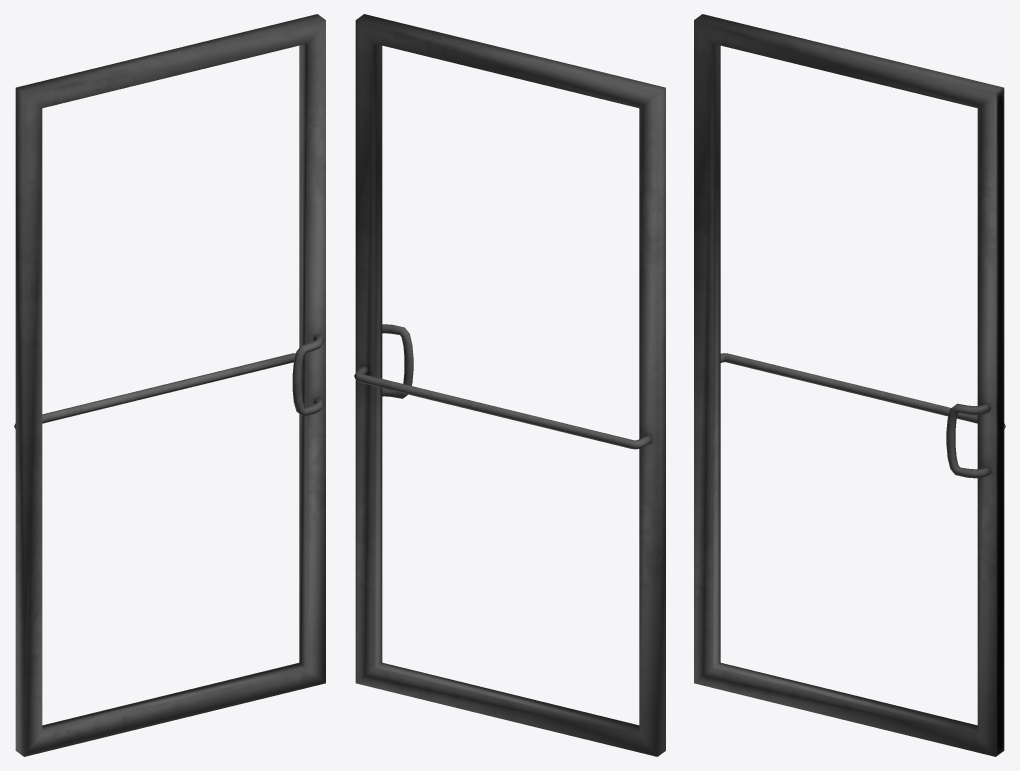
The model's file is Door_A.glb.
The picture shows the model from 3 angles, left to right: view 1: azimuth 30°, elevation 25°; view 2: azimuth 150°, elevation 25°; view 3: azimuth 330°, elevation 25°; orthographic projection.
Parts seen in each view (by area): view 1: Door_A.001; view 2: Door_A.001; view 3: Door_A.001.
Boxes of the visible parts, x1=… form: Door_A.001: x1=14, y1=14, x2=325, y2=756; Door_A.001: x1=354, y1=14, x2=665, y2=756; Door_A.001: x1=694, y1=14, x2=1005, y2=756.
Bounding box in the file's own units: 1 × 2.1 × 0.176.
Materials: 2 (1 with a texture image).
